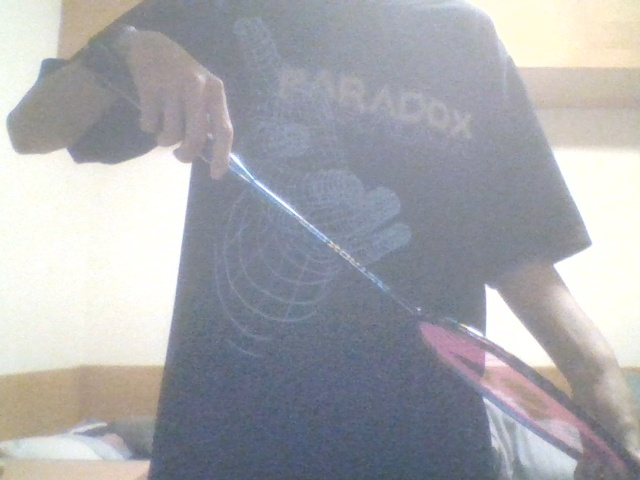human: (6, 1, 640, 480)
racket: (74, 36, 640, 480)
